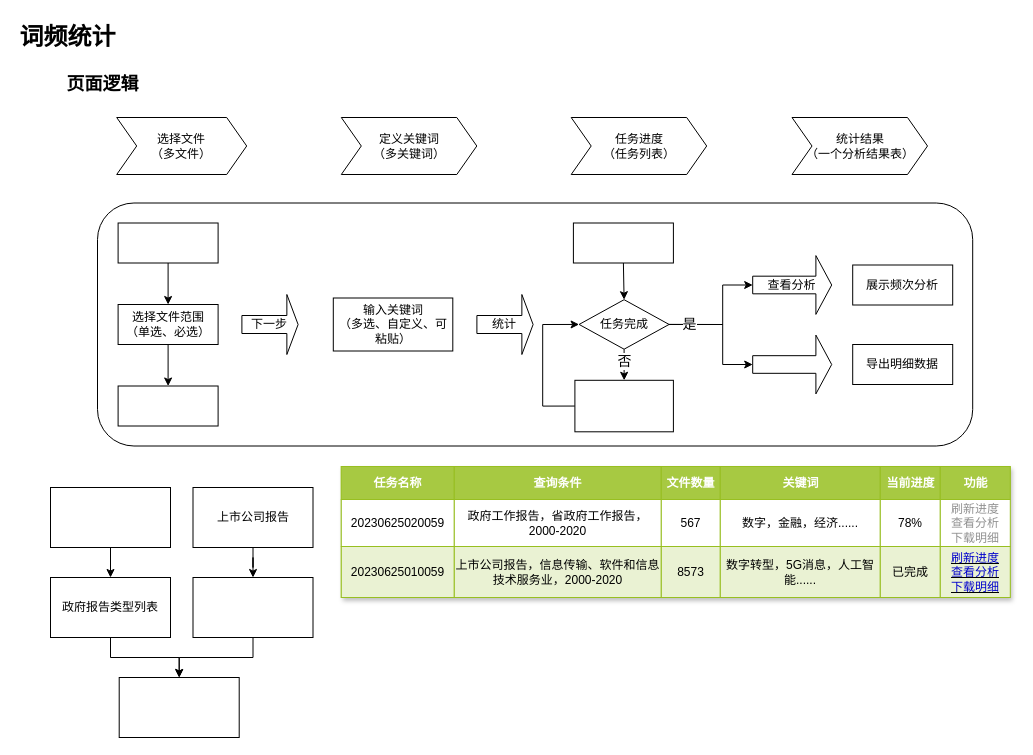
Image size: 1033x755. Some labels were removed from this diagram. The centre of each missing label's shape, as x and y in pixels:
下载明细: the point at 792,364
政府工作报告: the point at 110,517
添加到任务列表: the point at 622,242
点击刷新进度 （人工点击、页面刷新）: the point at 623,405
行业列表: the point at 252,607
选择年份: the point at 178,707
选择年份 （多选、必选）: the point at 167,405
选择报告库 （单选、必选）: the point at 167,242
